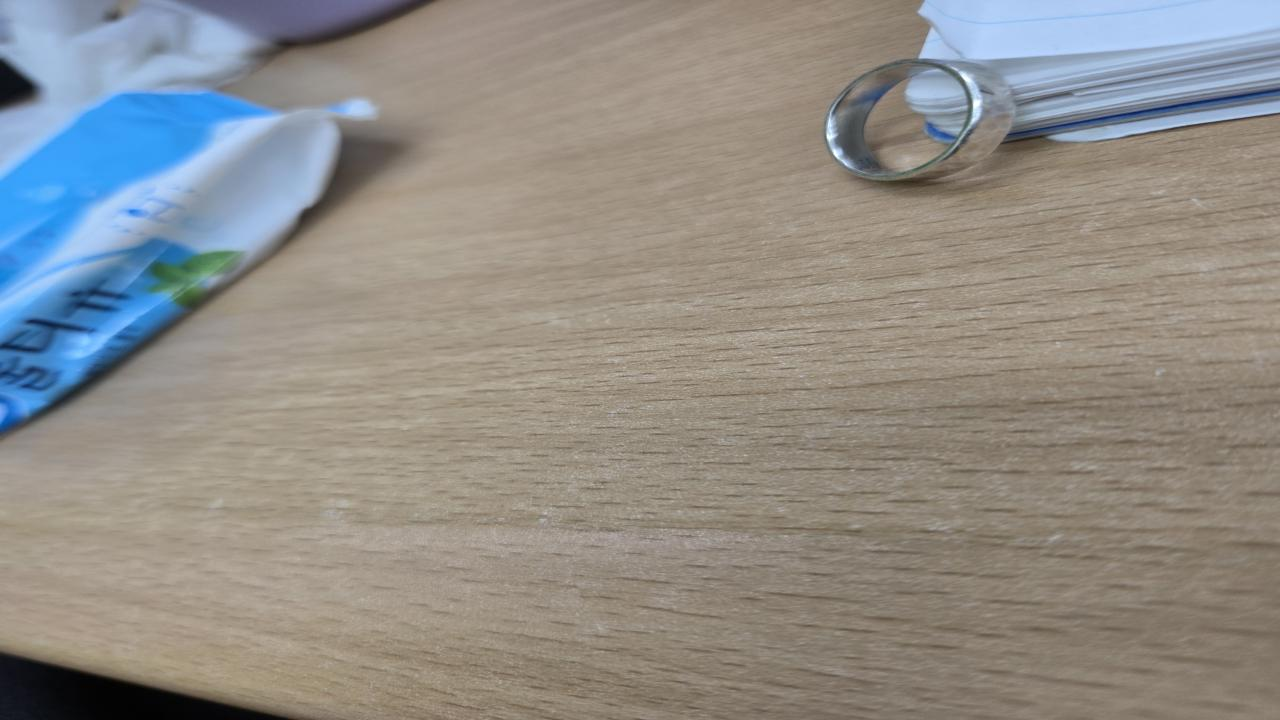ring: (824, 57, 1020, 185)
